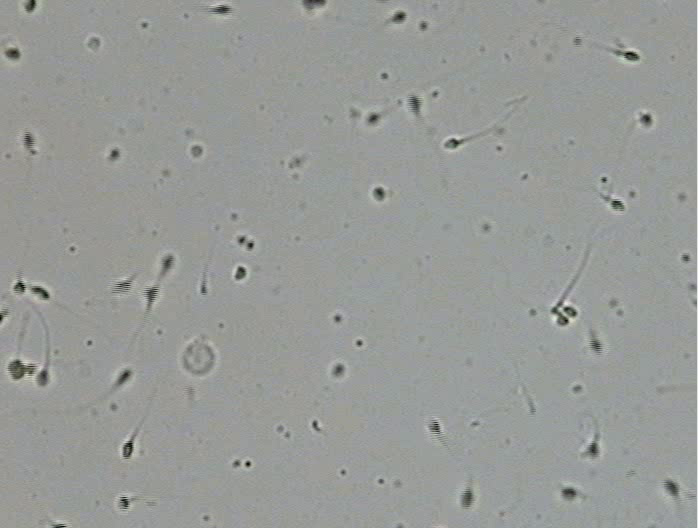Impurity: (182, 340, 215, 376), (87, 37, 100, 51)
S: (7, 359, 36, 380), (142, 286, 158, 306), (407, 94, 423, 113), (112, 279, 132, 294), (662, 480, 680, 496), (30, 286, 50, 300), (35, 368, 50, 386), (22, 131, 36, 150), (460, 488, 473, 508), (586, 441, 600, 459), (115, 370, 131, 385), (302, 1, 326, 11), (209, 5, 232, 15), (391, 10, 407, 24), (589, 339, 603, 355), (561, 486, 577, 500), (4, 47, 21, 60), (161, 254, 174, 271), (122, 440, 133, 458), (234, 265, 247, 280), (640, 113, 653, 128), (443, 138, 460, 149), (23, 1, 37, 14), (13, 280, 26, 294), (118, 495, 129, 511), (624, 50, 640, 61), (428, 420, 441, 433), (373, 187, 385, 201), (611, 199, 625, 211), (563, 306, 577, 318), (332, 363, 344, 376), (556, 315, 569, 326), (367, 113, 379, 124), (191, 146, 202, 157), (109, 149, 120, 159), (51, 523, 67, 528), (1, 309, 3, 321)
